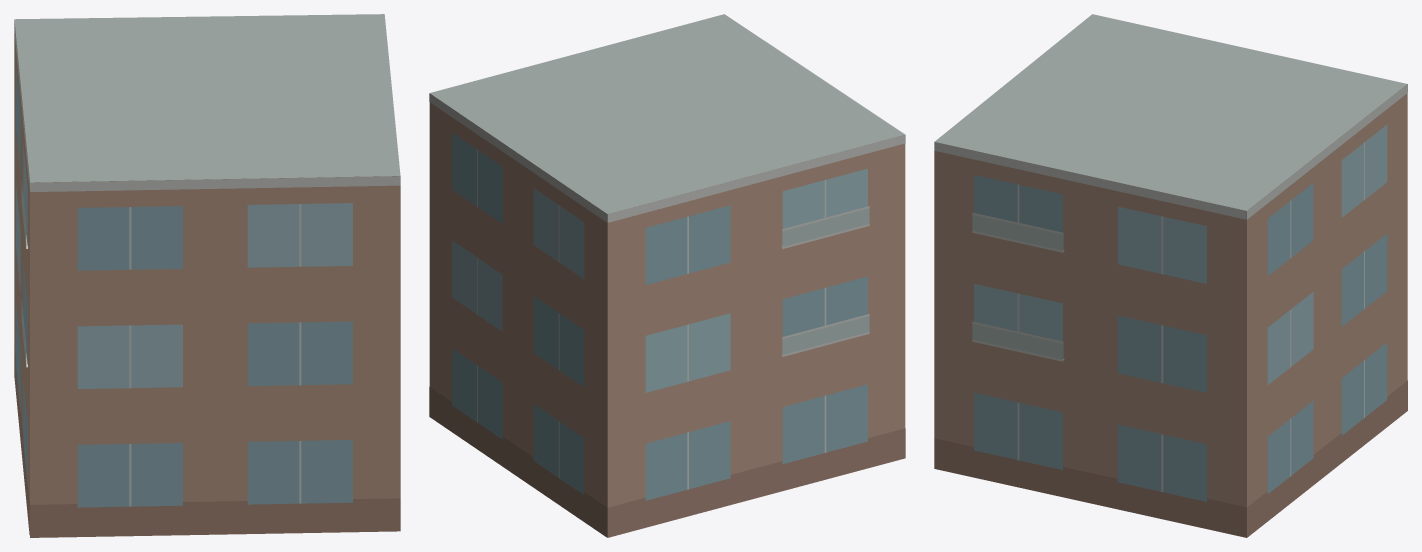
File: survey-upis-32972818.glb
3 views of the same model, side by side, from view 1: azimuth 30°, elevation 25°; view 2: azimuth 150°, elevation 25°; view 3: azimuth 270°, elevation 25° (orthographic). The views are drawn at different scales.
Visible parts, largest first — view 1: survey-upis-32972818.tmp; view 2: survey-upis-32972818.tmp; view 3: survey-upis-32972818.tmp.
Boxes of the visible parts, <box> form: survey-upis-32972818.tmp: <box>14,14,400,537</box>; survey-upis-32972818.tmp: <box>429,14,905,537</box>; survey-upis-32972818.tmp: <box>934,14,1407,537</box>.
Bounding box in the file's own units: 11.64 × 9 × 11.82.
